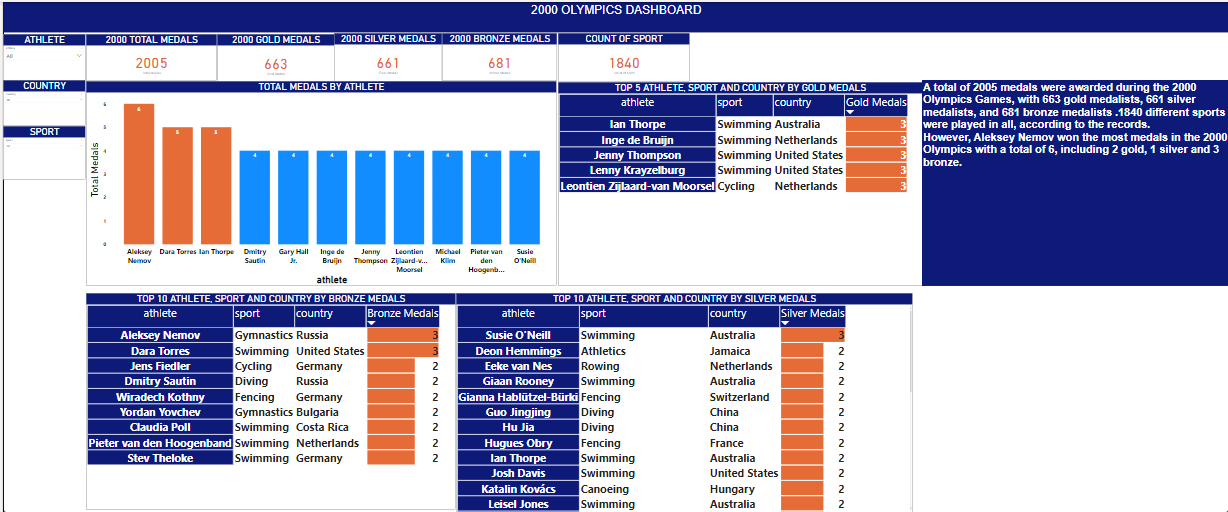

What the dashboard file says about the page in this screenshot:
{"tool":"powerbi","page":{"name":"2000 OLYMPICS REPORT","canvas":[4500,2500],"ordinal":0},"visuals":[{"type":"textbox","box":[0,0,4500,150],"z":0},{"type":"slicer","title":"ATHLETE","fields":{"Values":["2000 olympics.athlete"]},"box":[0,154.8,404.3,228],"z":1000},{"type":"slicer","title":"COUNTRY","fields":{"Values":["2000 olympics.country"]},"box":[0,382.8,404.3,223.7],"z":2000},{"type":"slicer","title":"SPORT","fields":{"Values":["2000 olympics.sport"]},"box":[0,606.5,404.3,262.4],"z":3000},{"type":"card","title":"2000 TOTAL MEDALS","fields":{"Values":["2000 olympics.Total Medals"]},"box":[404.3,154.8,640.9,228],"z":4000},{"type":"card","title":"2000 GOLD MEDALS","fields":{"Values":["2000 olympics.Gold Medals"]},"box":[1045.2,154.8,576.3,232.3],"z":5000},{"type":"card","title":"2000 SILVER MEDALS","fields":{"Values":["2000 olympics.Silver Medals"]},"box":[1621.5,150.5,529,236.6],"z":6000},{"type":"card","title":"2000 BRONZE MEDALS","fields":{"Values":["2000 olympics.Bronze Medals"]},"box":[2150.5,150.5,563.4,232.3],"z":7000},{"type":"card","title":"COUNT OF SPORT","fields":{"Values":["2000 olympics.count of sport"]},"box":[2714,150.5,645.2,236.6],"z":8000},{"type":"clusteredColumnChart","title":"TOTAL  MEDALS BY ATHLETE","fields":{"Category":["2000 olympics.athlete"],"Y":["2000 olympics.Total Medals"]},"box":[406.5,387.1,2303.2,1001.6],"z":9000},{"type":"tableEx","title":"TOP 5 ATHLETE, SPORT AND COUNTRY BY GOLD MEDALS","fields":{"Values":["2000 olympics.athlete","2000 olympics.sport","2000 olympics.country","2000 olympics.Gold Medals"]},"box":[2716.5,389.8,1783.5,998],"z":10000},{"type":"tableEx","title":"TOP 10 ATHLETE, SPORT AND COUNTRY BY BRONZE MEDALS","fields":{"Values":["2000 olympics.athlete","2000 olympics.sport","2000 olympics.country","2000 olympics.Bronze Medals"]},"box":[406.5,1422.6,1809.7,1059.7],"z":11000},{"type":"tableEx","title":"TOP 10 ATHLETE, SPORT AND COUNTRY BY SILVER MEDALS","fields":{"Values":["2000 olympics.athlete","2000 olympics.sport","2000 olympics.country","2000 olympics.Silver Medals"]},"box":[2216.1,1422.6,2235.5,1079],"z":12000}]}

Visuals, with their boxes on the page's 4500x2500 design canvas (x1, y1, x2, y2). These are canvas units, not pixel positions in the 1228x512 screenshot, which may show the page scaled, cropped or inside an application window:
textbox: <bbox>0, 0, 4500, 150</bbox>
"ATHLETE" slicer: <bbox>0, 155, 404, 383</bbox>
"COUNTRY" slicer: <bbox>0, 383, 404, 606</bbox>
"SPORT" slicer: <bbox>0, 606, 404, 869</bbox>
"2000 TOTAL MEDALS" card: <bbox>404, 155, 1045, 383</bbox>
"2000 GOLD MEDALS" card: <bbox>1045, 155, 1622, 387</bbox>
"2000 SILVER MEDALS" card: <bbox>1622, 150, 2150, 387</bbox>
"2000 BRONZE MEDALS" card: <bbox>2150, 150, 2714, 383</bbox>
"COUNT OF SPORT" card: <bbox>2714, 150, 3359, 387</bbox>
"TOTAL  MEDALS BY ATHLETE" clusteredColumnChart: <bbox>406, 387, 2710, 1389</bbox>
"TOP 5 ATHLETE, SPORT AND COUNTRY BY GOLD MEDALS" tableEx: <bbox>2716, 390, 4500, 1388</bbox>
"TOP 10 ATHLETE, SPORT AND COUNTRY BY BRONZE MEDALS" tableEx: <bbox>406, 1423, 2216, 2482</bbox>
"TOP 10 ATHLETE, SPORT AND COUNTRY BY SILVER MEDALS" tableEx: <bbox>2216, 1423, 4452, 2502</bbox>
